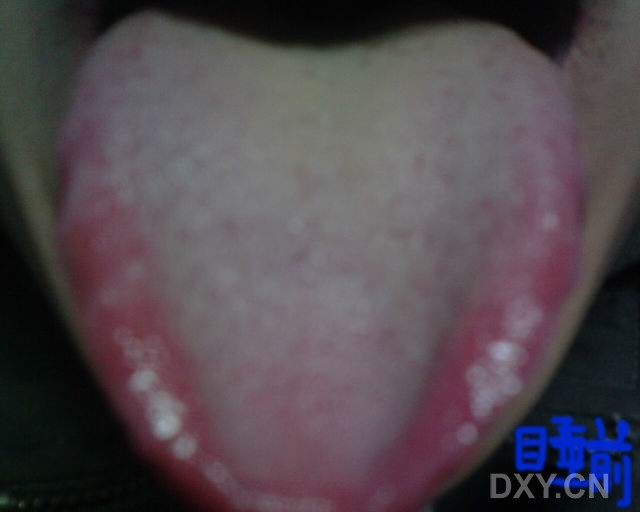baitaishe: (55, 13, 582, 512)
